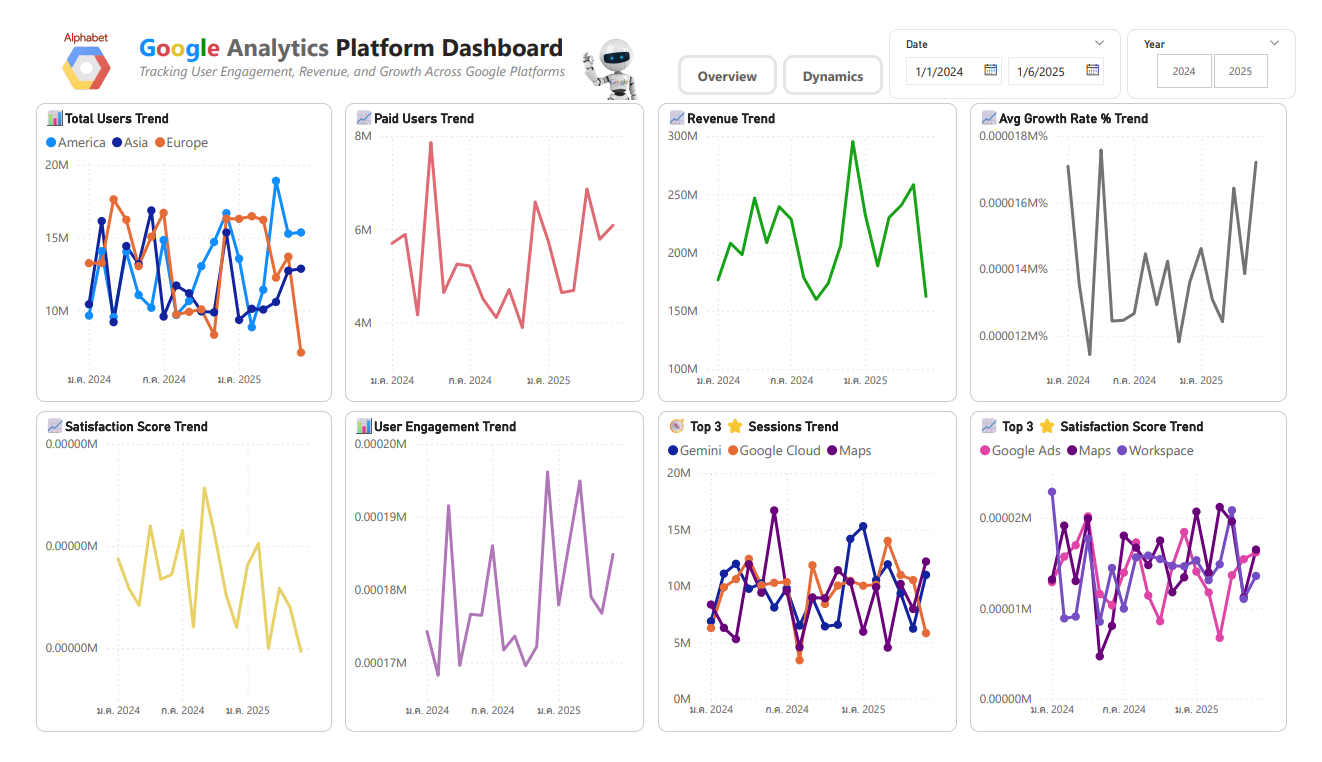

What the dashboard file says about the page in this screenshot:
{"tool":"powerbi","page":{"name":"Dynamics","canvas":[1280,720],"ordinal":1},"visuals":[{"type":"lineChart","title":"📊Total Users Trend","fields":{"Category":["FactUsage.Date"],"Y":["FactUsage.Total Users"],"Series":["DimRegion.Continent"]},"box":[13.8,83.1,296.3,299.1],"z":0},{"type":"lineChart","title":"📈Paid Users Trend","fields":{"Category":["FactUsage.Date"],"Y":["Sum(FactUsage.PaidUsers)"]},"box":[322.6,83.1,299.8,299.1],"z":1000},{"type":"lineChart","title":"📈Revenue Trend","fields":{"Category":["FactUsage.Date"],"Y":["Sum(FactUsage.Revenue)"]},"box":[635.5,83.1,299.8,299.1],"z":2000},{"type":"lineChart","title":"📈Avg Growth Rate % Trend","fields":{"Category":["FactUsage.Date"],"Y":["FactUsage.Avg Conversion Rate (%)"]},"box":[948.4,83.1,317.1,299.1],"z":3000},{"type":"lineChart","title":"📈Satisfaction Score Trend","fields":{"Category":["FactUsage.Date"],"Y":["Avg(FactUsage.SatisfactionScore)"]},"box":[13.8,391.1,296.3,320.5],"z":4000},{"type":"lineChart","title":"📈 Top 3 ⭐ Satisfaction Score Trend","fields":{"Category":["FactUsage.Date"],"Y":["Avg(FactUsage.ConversionRate)"],"Series":["DimPlatform.PlatformName"]},"box":[948.4,391.1,317.1,320.5],"z":5000},{"type":"lineChart","title":"🧭 Top 3 ⭐ Sessions Trend","fields":{"Category":["FactUsage.Date"],"Y":["Sum(FactUsage.Sessions)"],"Series":["DimPlatform.PlatformName"]},"box":[635.5,391.1,299.8,320.5],"z":6000},{"type":"lineChart","title":"📊User Engagement Trend","fields":{"Category":["FactUsage.Date"],"Y":["FactUsage.Engagement Rate (%)"]},"box":[322.6,391.1,299.8,320.5],"z":7000},{"type":"textbox","box":[111.7,5.1,492.5,76.8],"z":8000},{"type":"slicer","fields":{"Values":["FactUsage.Date.Variation.Date Hierarchy.Year"]},"box":[1105.5,8.9,168.8,69.8],"z":9000},{"type":"slicer","fields":{"Values":["FactUsage.Date"]},"box":[866.9,8.9,231.6,69.8],"z":10000},{"type":"image","box":[546.9,0,93.5,94.8],"z":11000},{"type":"image","box":[16.5,12.1,95.2,71.1],"z":12000},{"type":"image","box":[31.1,0,66,37.4],"z":13000},{"type":"actionButton","box":[761.5,35.3,99.7,40.2],"z":14000},{"type":"actionButton","box":[655.6,35.3,99.7,40.2],"z":15000}]}

Visuals, with their boxes in screenshot pixels (x1, y1, x2, y2), scaled from the page's 1280x720 canvas onto the 1322x762 screenshot:
"📊Total Users Trend" lineChart: [left=14, top=88, right=320, bottom=404]
"📈Paid Users Trend" lineChart: [left=333, top=88, right=643, bottom=404]
"📈Revenue Trend" lineChart: [left=656, top=88, right=966, bottom=404]
"📈Avg Growth Rate % Trend" lineChart: [left=980, top=88, right=1307, bottom=404]
"📈Satisfaction Score Trend" lineChart: [left=14, top=414, right=320, bottom=753]
"📈 Top 3 ⭐ Satisfaction Score Trend" lineChart: [left=980, top=414, right=1307, bottom=753]
"🧭 Top 3 ⭐ Sessions Trend" lineChart: [left=656, top=414, right=966, bottom=753]
"📊User Engagement Trend" lineChart: [left=333, top=414, right=643, bottom=753]
textbox: [left=115, top=5, right=624, bottom=87]
slicer - FactUsage.Date.Variation.Date Hierarchy.Year: [left=1142, top=9, right=1316, bottom=83]
slicer - FactUsage.Date: [left=895, top=9, right=1135, bottom=83]
image: [left=565, top=0, right=661, bottom=100]
image: [left=17, top=13, right=115, bottom=88]
image: [left=32, top=0, right=100, bottom=40]
actionButton: [left=786, top=37, right=889, bottom=80]
actionButton: [left=677, top=37, right=780, bottom=80]
